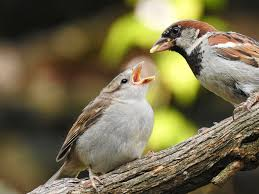hsparrow: (49, 59, 168, 192), (149, 10, 259, 111)
